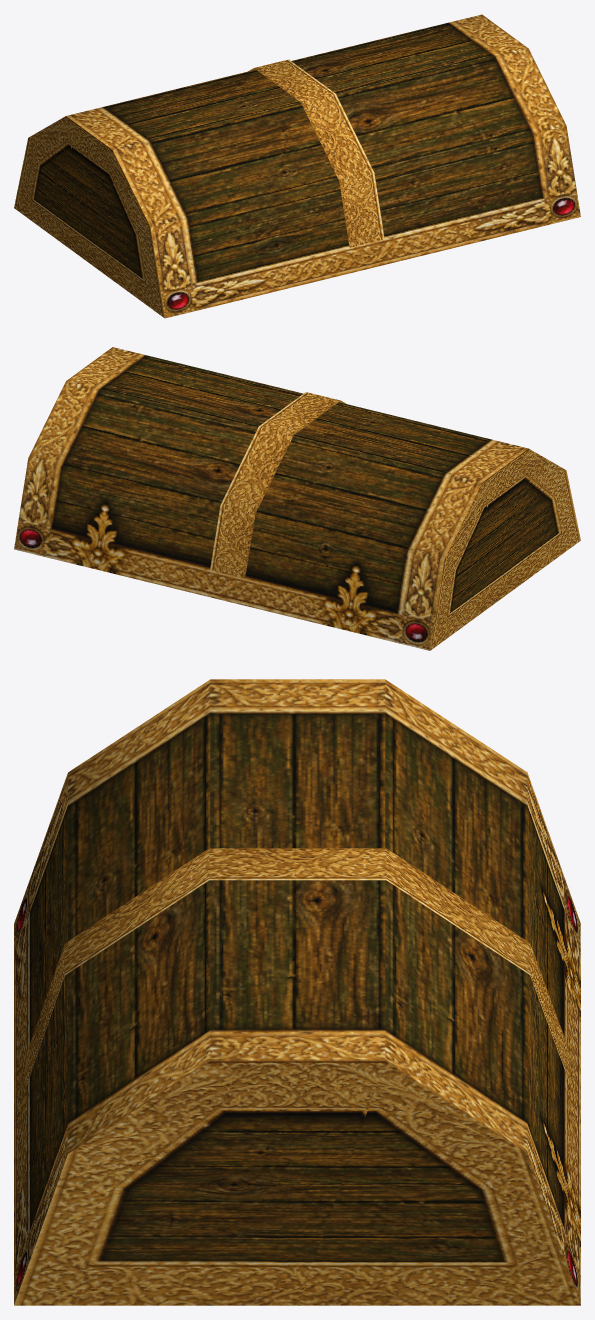
Rendered from mm9_deco_chest5_lid.glb.
3 renders of one model, top to bottom at view 1: azimuth 30°, elevation 25°; view 2: azimuth 150°, elevation 25°; view 3: azimuth 270°, elevation 25°, orthographic. The views are drawn at different scales.
Parts seen in each view (by area): view 1: Chest5; view 2: Chest5; view 3: Chest5.
Boxes of the visible parts, x1,y1,x2,y2 form: Chest5: (14,14,580,318); Chest5: (14,347,580,650); Chest5: (14,679,580,1305).
Bounding box in the file's own units: 1 × 0.3039 × 0.6291.
Materials: 1 (1 with a texture image).
